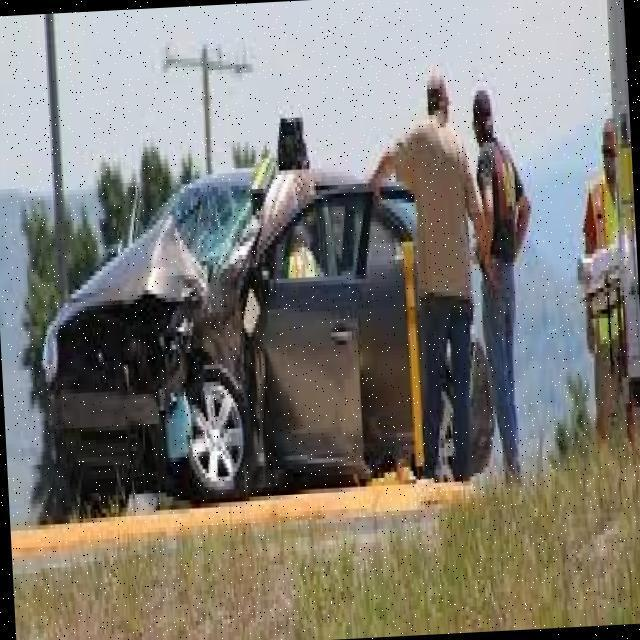accident: (27, 94, 390, 494)
